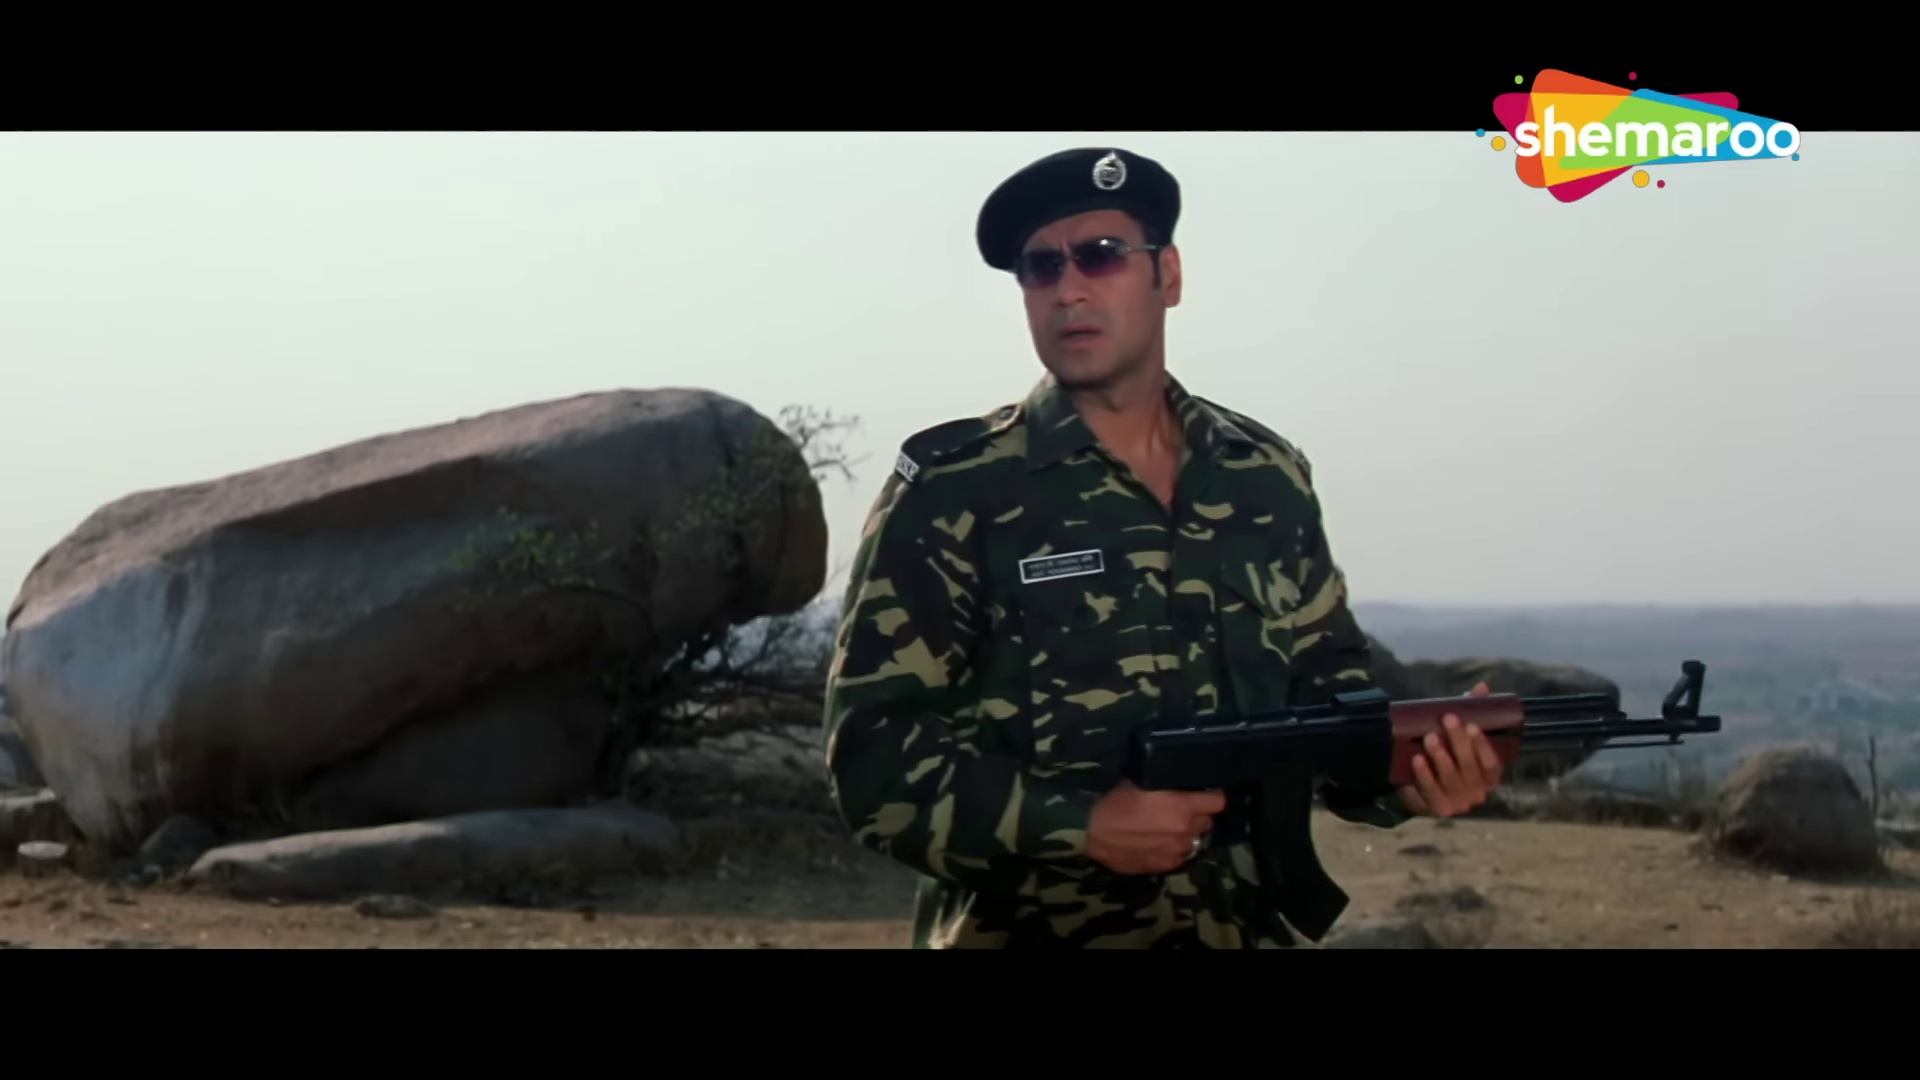gun: (1100, 657, 1726, 943)
p_w_gun: (828, 140, 1726, 947)
